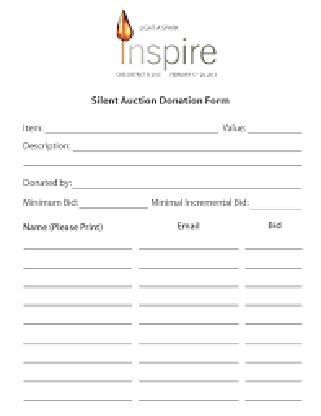textline: (21, 153, 308, 170), (70, 173, 305, 193), (72, 139, 307, 155), (42, 121, 220, 137), (21, 233, 132, 251), (21, 251, 132, 269), (21, 271, 132, 289), (21, 290, 132, 308), (21, 308, 132, 326), (21, 328, 132, 346), (21, 347, 132, 365), (21, 367, 132, 385), (21, 385, 132, 403), (135, 254, 238, 271), (137, 272, 240, 289), (137, 235, 240, 251), (135, 292, 238, 308), (135, 310, 238, 326), (135, 330, 238, 346), (137, 349, 240, 365), (137, 367, 240, 383), (137, 387, 240, 403), (248, 194, 307, 214), (77, 196, 148, 212), (243, 235, 303, 253), (243, 253, 303, 271), (243, 271, 303, 289), (243, 290, 303, 308), (243, 308, 303, 326), (243, 328, 303, 346), (243, 347, 303, 365), (243, 367, 303, 385), (243, 387, 303, 405), (246, 121, 307, 137)
